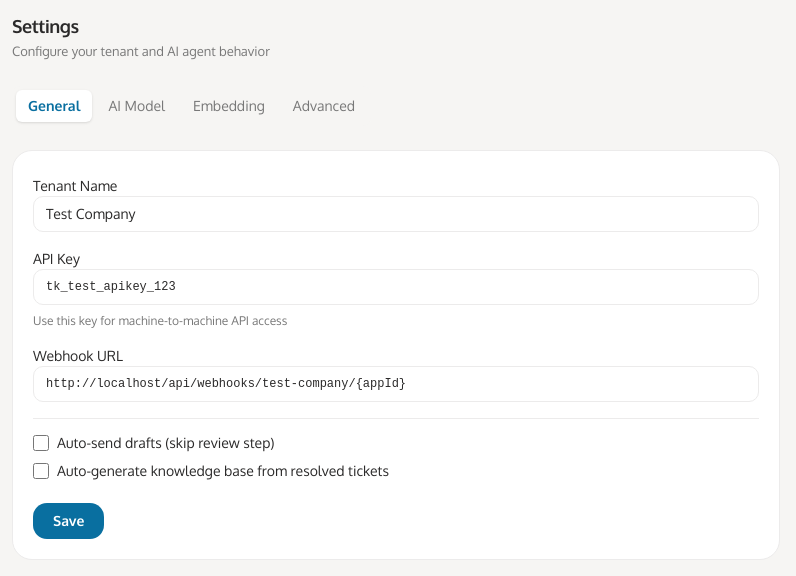
Scenario: Settings – Advanced tab › shows advanced fields after clicking the tab
Click the tab "Advanced" at (324, 106), box 281,90 -> 367,122
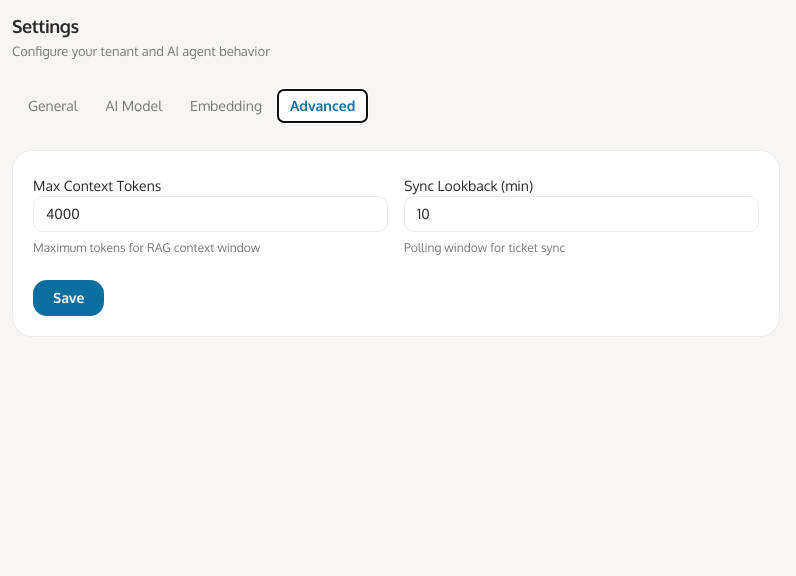
Now the number field labelled "Max Context Tokens" holds "4000", box 33,196 -> 388,232
Now the number field labelled "Sync Lookback (min)" holds "10", box 404,196 -> 759,232
